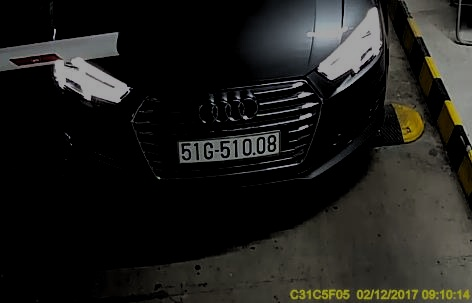plate: (175, 134, 280, 162)
